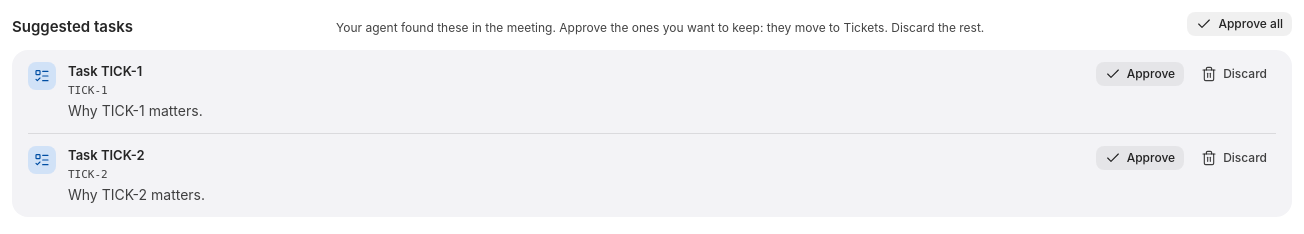
Test: MeetingTasks › Discard drops the row
The width and height of the screenshot is (1304, 234).
Step 1. Click the button with aria-label "Discard TICK-2" → (1234,158), box [1192,146,1276,170]
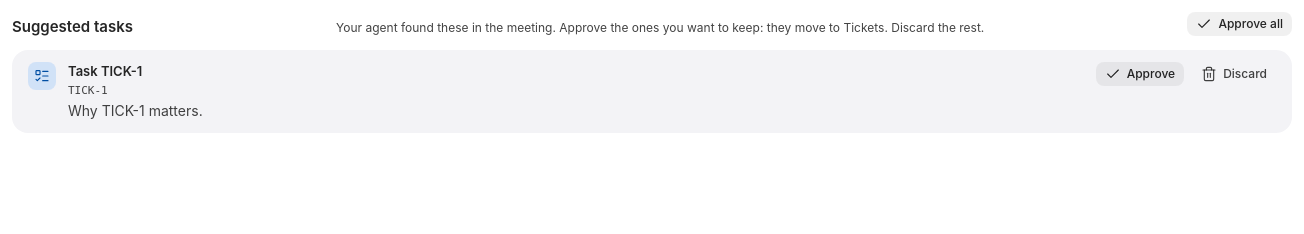
Check: the text "Task TICK-1" is shown, box [68,63,142,79]
Check: the text "Task TICK-2" is gone
